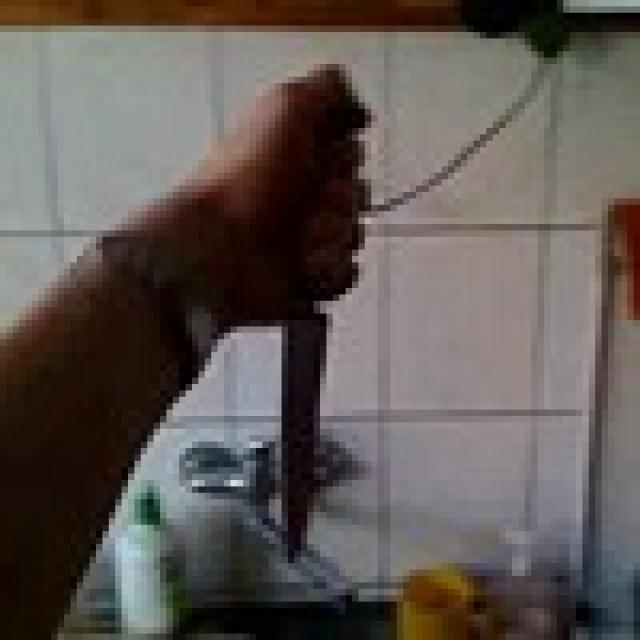Knife: (262, 83, 378, 557)
